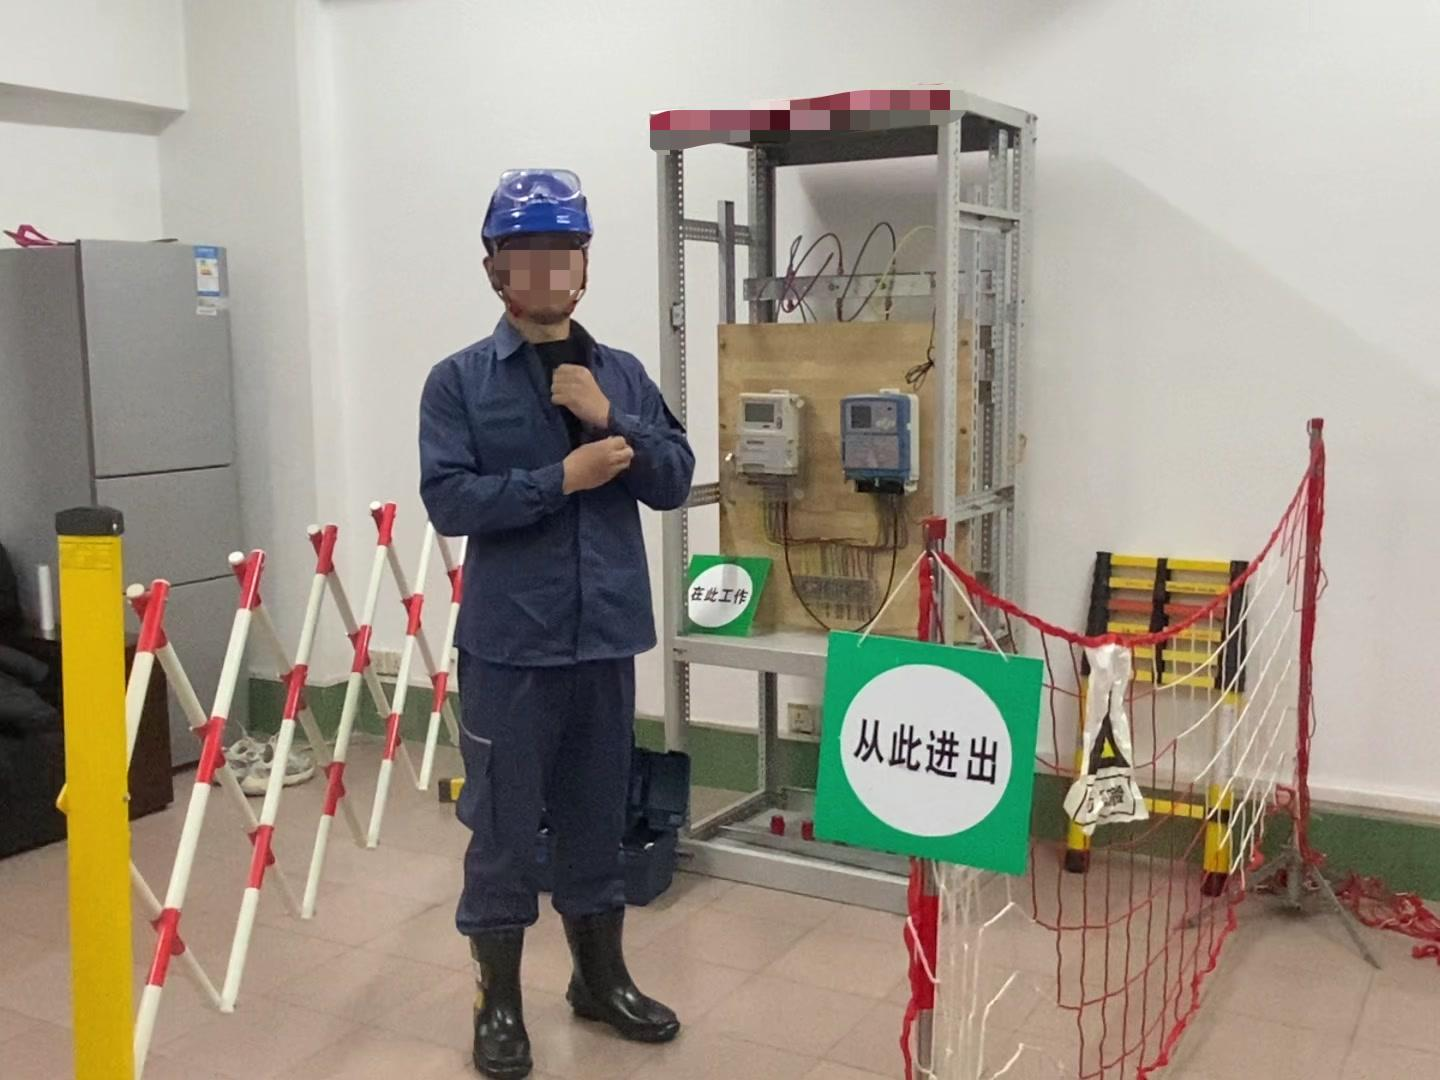halt: (477, 167, 603, 335)
